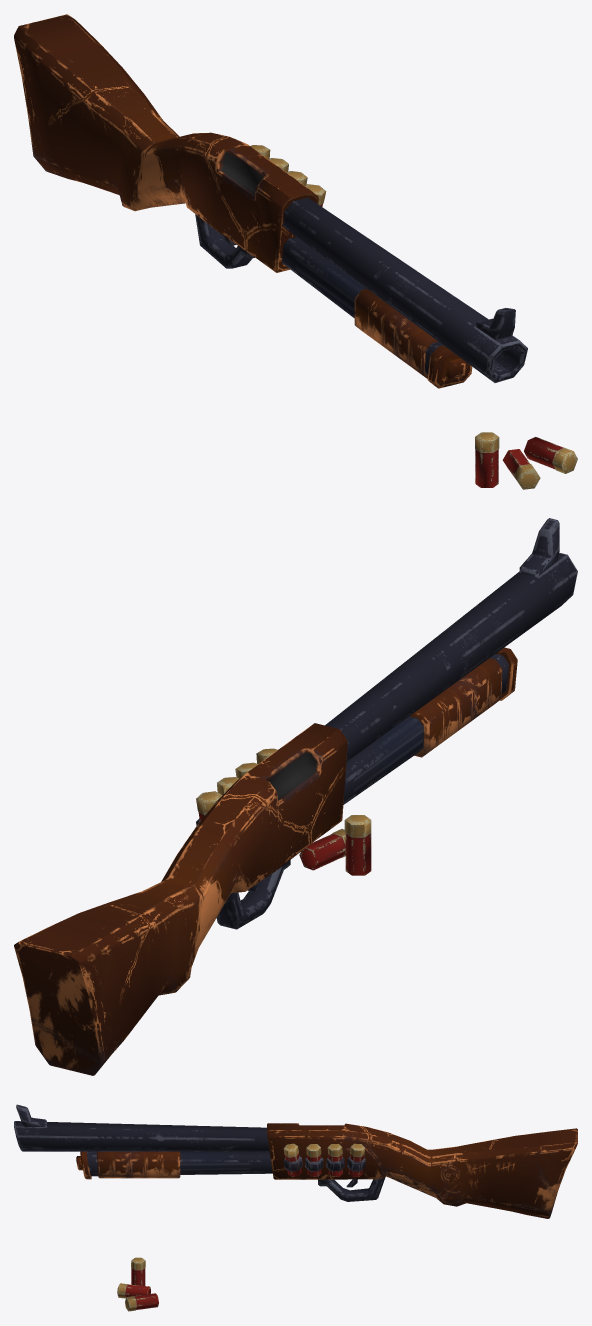
The picture shows the model from 3 angles, top to bottom: view 1: azimuth 30°, elevation 25°; view 2: azimuth 150°, elevation 25°; view 3: azimuth 270°, elevation 25°; orthographic projection. The views are drawn at different scales.
Parts seen in each view (by area): view 1: weapon_shotgun_a, pellets; view 2: weapon_shotgun_a, pellets; view 3: weapon_shotgun_a, pellets.
Boxes of the visible parts, x1=… form: weapon_shotgun_a: x1=14, y1=14, x2=527, y2=388; pellets: x1=475, y1=432, x2=577, y2=489; weapon_shotgun_a: x1=14, y1=518, x2=577, y2=1075; pellets: x1=299, y1=815, x2=371, y2=875; weapon_shotgun_a: x1=14, y1=1104, x2=577, y2=1218; pellets: x1=117, y1=1257, x2=158, y2=1311.
Bounding box in the file's own units: 93.46 × 122 × 390.
Materials: 1 (1 with a texture image).
